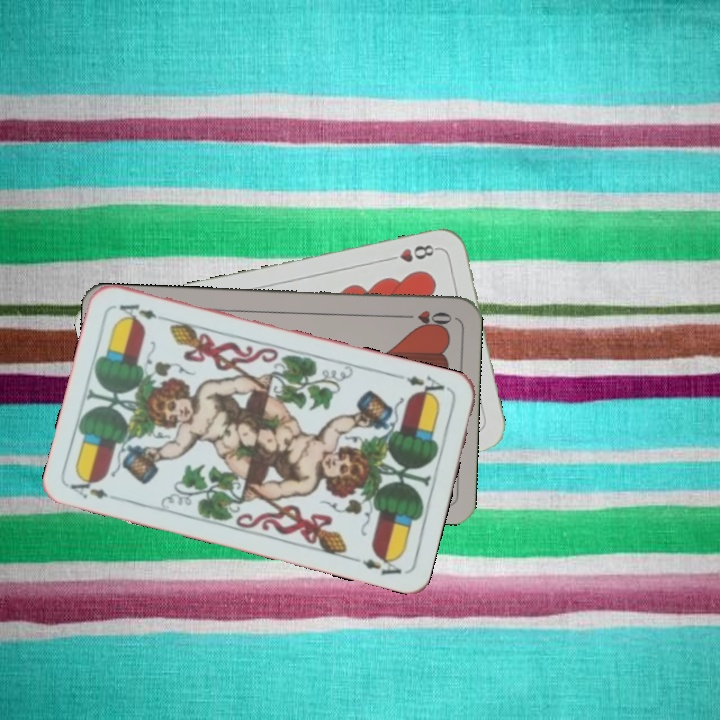EA: (394, 371, 452, 401), (66, 472, 110, 501)
H8: (382, 240, 441, 265)
HO: (397, 306, 455, 329)
